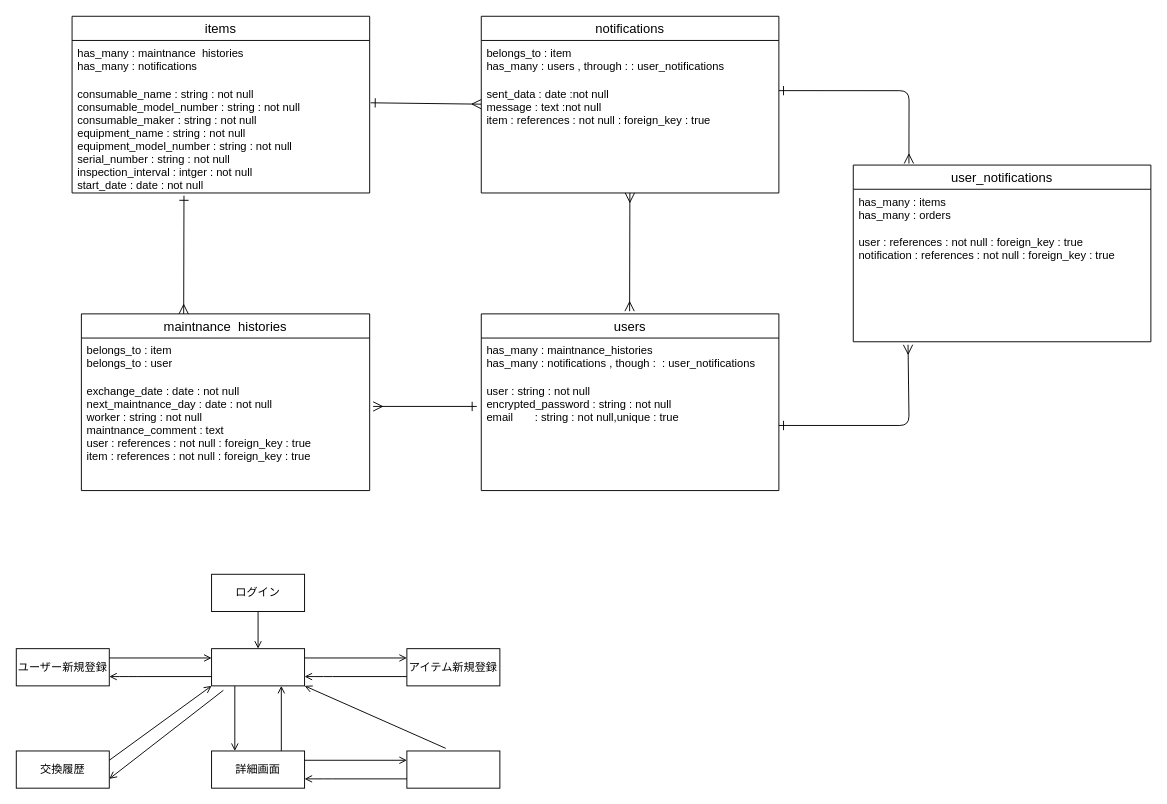
Some shapes in this 1167 by 804 pixel diagram are drawn without their labels. Each missing label, with the centre of its shape:
ダッシュボード: point (258, 667)
編集画面: point (453, 769)
